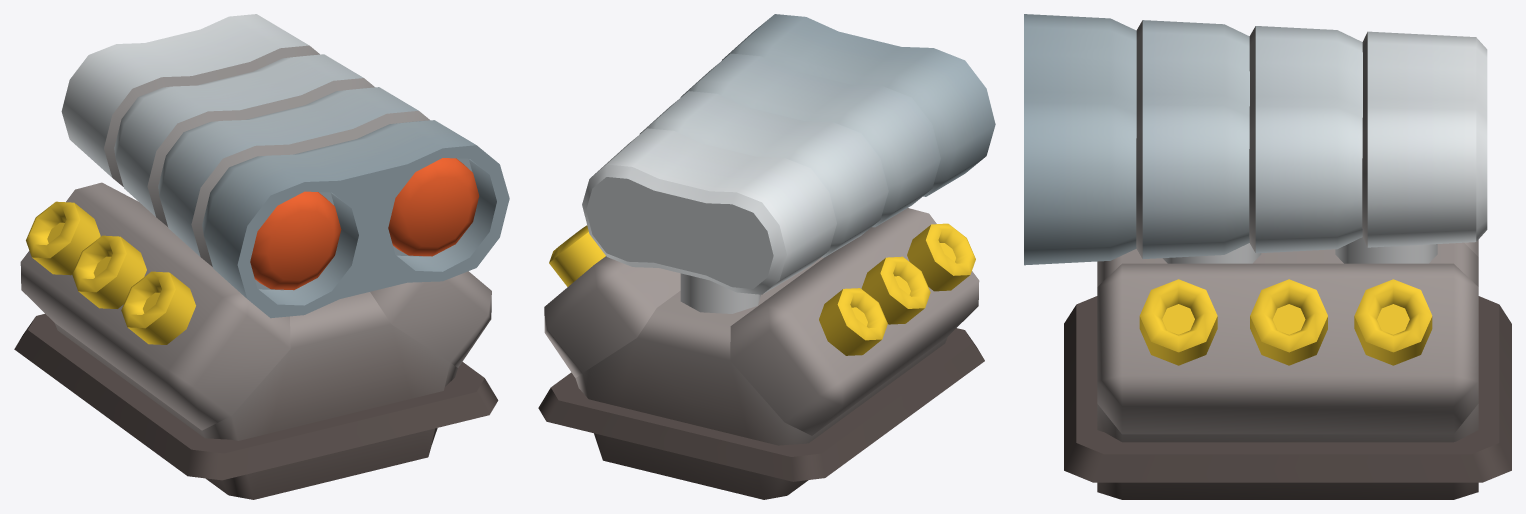
Rendered from Car_01_Engine.fbx.
The picture shows the model from 3 angles, left to right: view 1: azimuth 30°, elevation 25°; view 2: azimuth 150°, elevation 25°; view 3: azimuth 270°, elevation 25°; orthographic projection. The views are drawn at different scales.
Parts seen in each view (by area): view 1: Car_01_Engine; view 2: Car_01_Engine; view 3: Car_01_Engine.
Part boxes in pixels (x1,y1,x2,y2): Car_01_Engine: (14,14,509,499); Car_01_Engine: (538,14,995,499); Car_01_Engine: (1024,14,1511,499).
Bounding box in the file's own units: 62.86 × 66.49 × 57.05.
